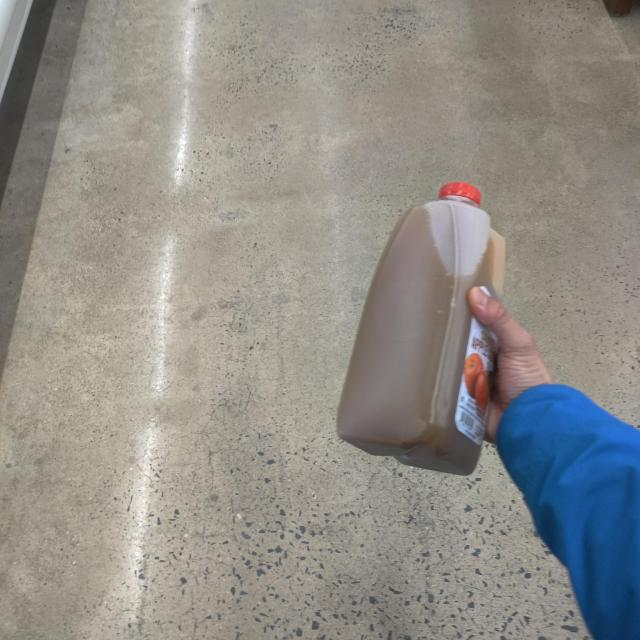Juice: (332, 166, 524, 486)
